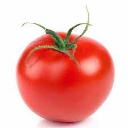tomato: (15, 28, 114, 121)
